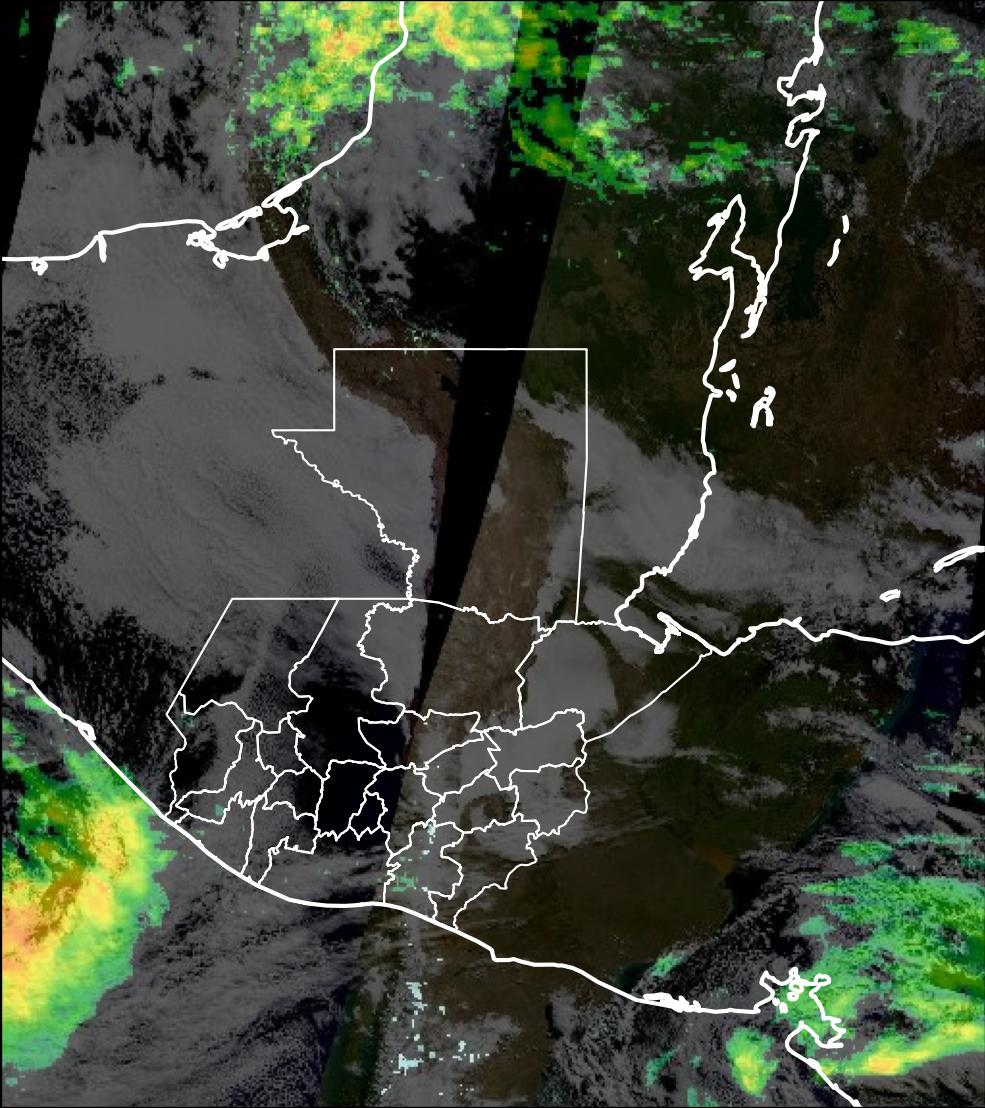precipitacion: (1, 802, 143, 1071)
